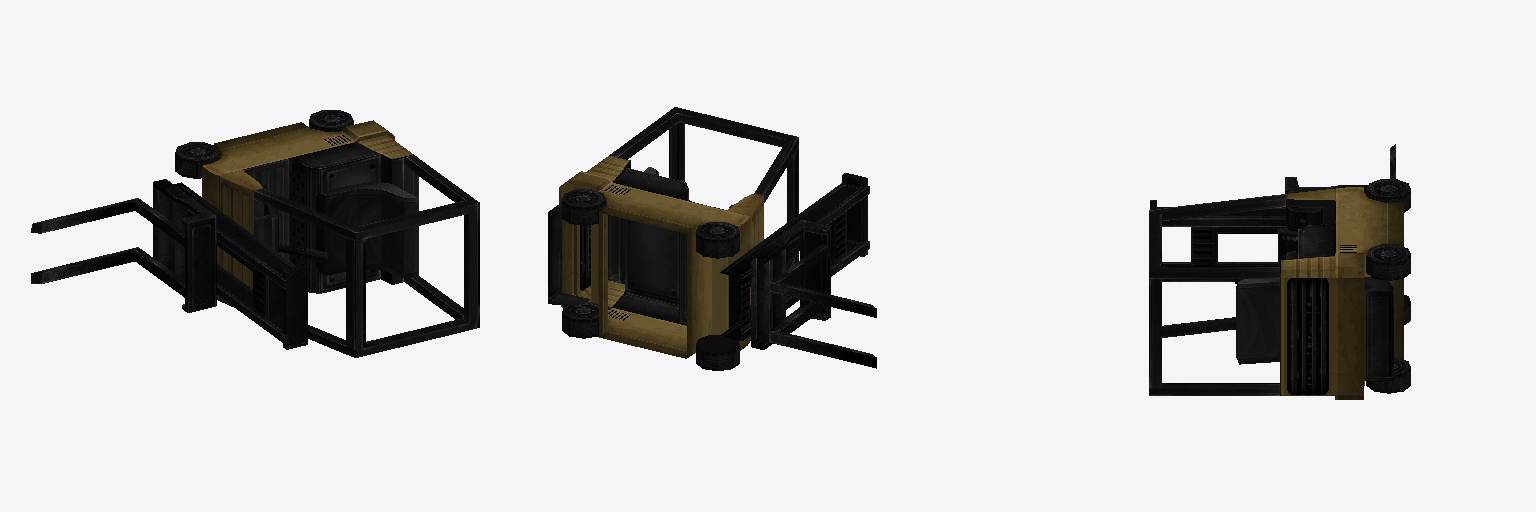
The picture shows the model from 3 angles: view 1: azimuth 30°, elevation 25°; view 2: azimuth 150°, elevation 25°; view 3: azimuth 270°, elevation 25°; orthographic projection.
Visible parts, largest first — view 1: forklift; view 2: forklift; view 3: forklift.
Boxes of the visible parts, <box> form: forklift: <box>31,110,479,357</box>; forklift: <box>548,107,876,370</box>; forklift: <box>1149,144,1410,399</box>.
Bounding box in the file's own units: 123 × 46.9 × 83.99.
Materials: 3 (3 with a texture image).